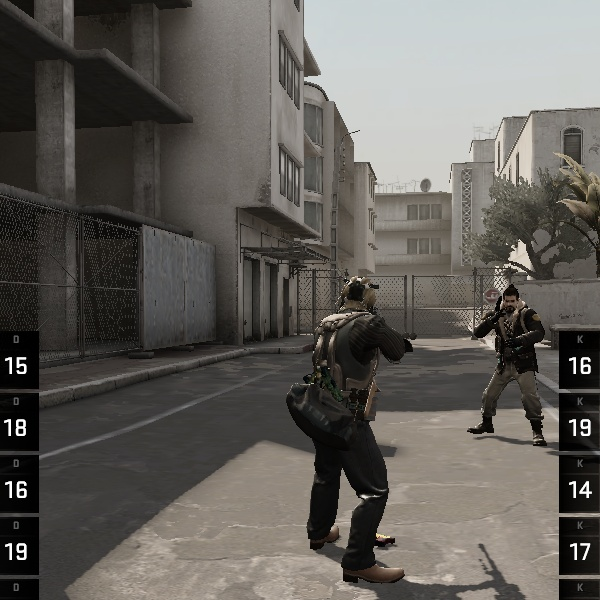ct_body: (264, 276, 418, 576)
ct_head: (332, 275, 386, 330)
t_body: (461, 279, 556, 445)
